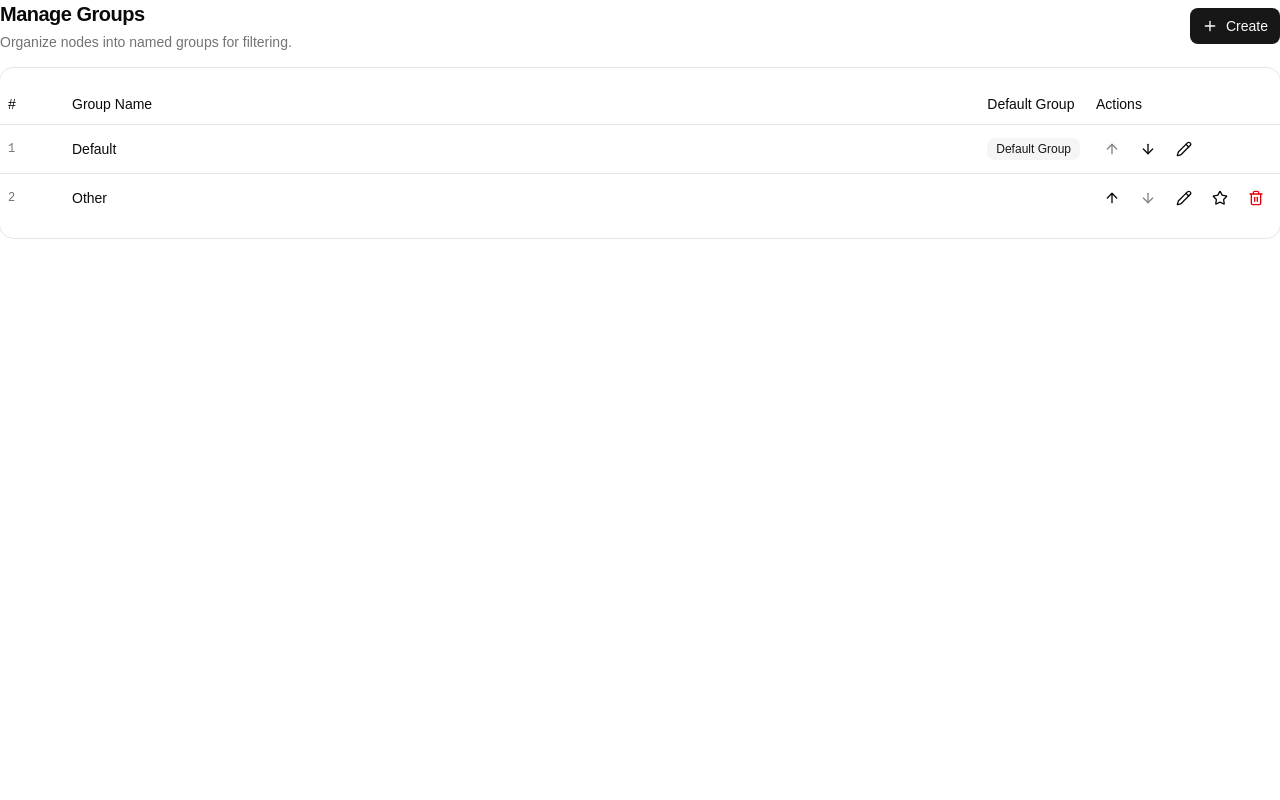
Scenario: admin groups › shows action failures
Click the button "Create". click: (1235, 26)
box: [1190, 8, 1279, 44]
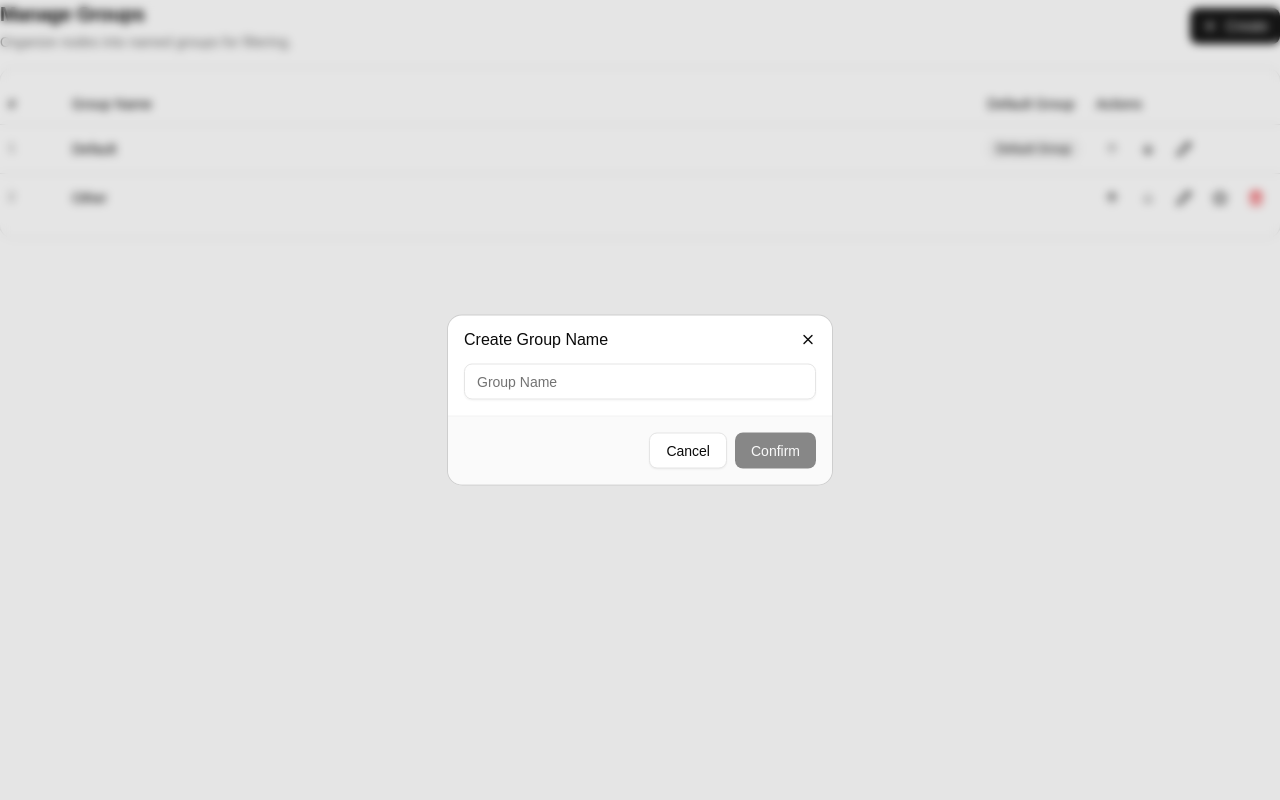
Type "New" into the field with placeholder "Group Name". click: (640, 382)
box: [464, 364, 816, 400]
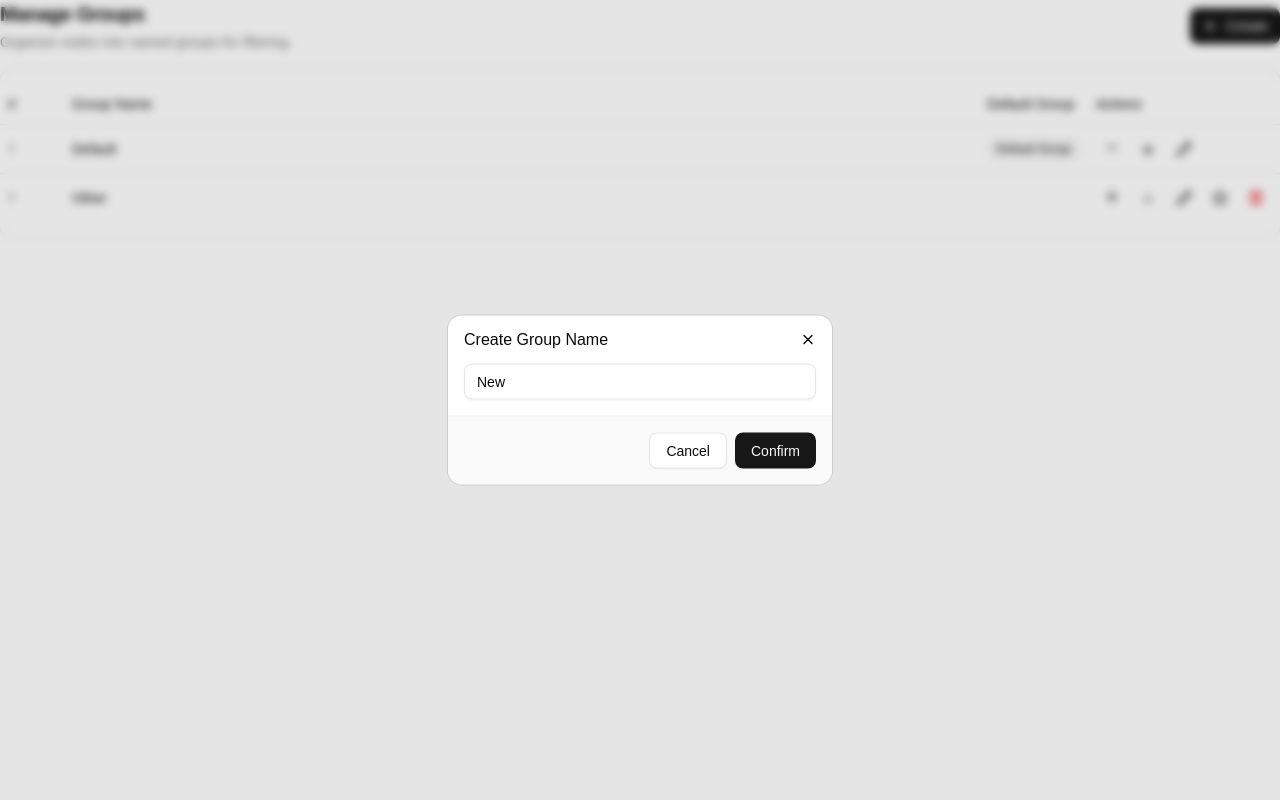
Click the button "Confirm". click: (776, 450)
box: [735, 432, 816, 468]
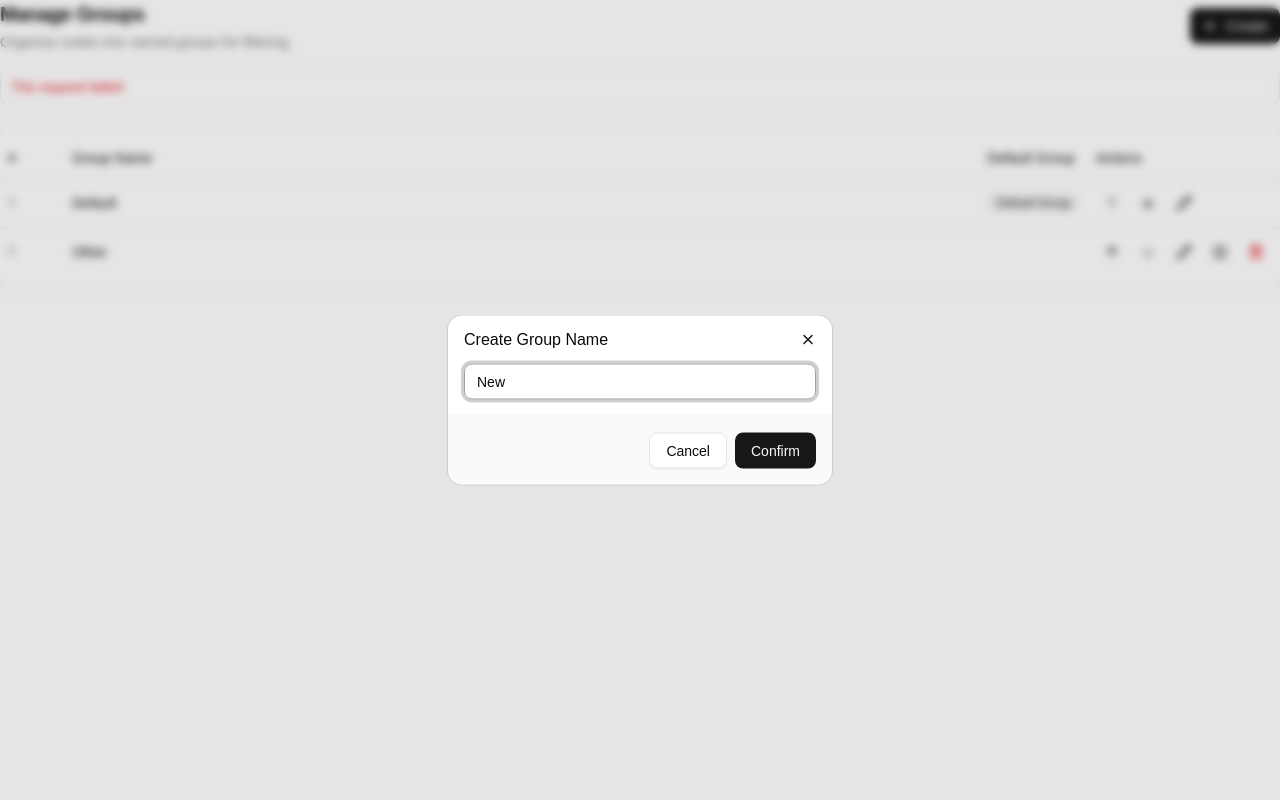
Check: the text "The request failed" is shown, box [11, 79, 123, 95]
